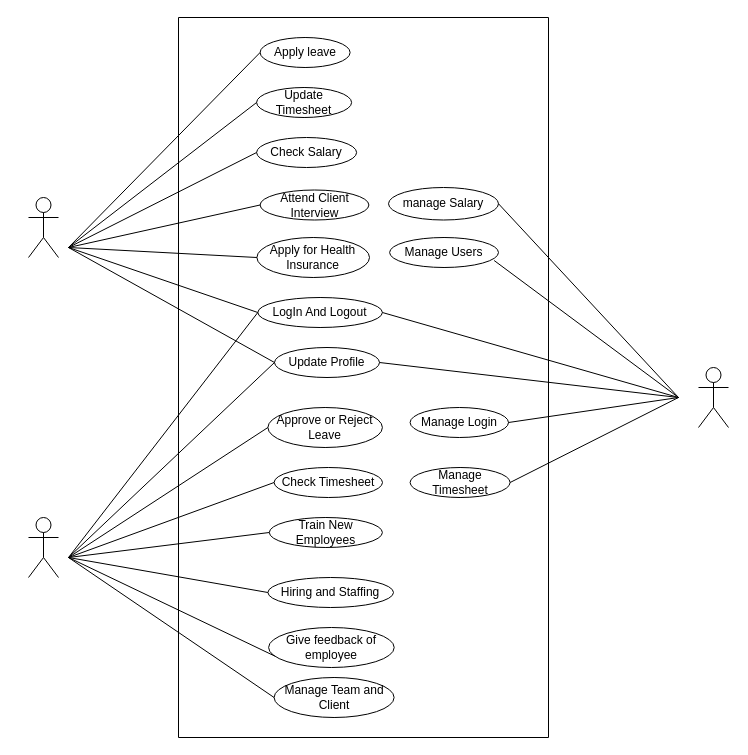
Image size: 748x755. Some labels were removed from this diagram. Here are the shapes that lost their labels. From the top down, the centre of each, then its label:
[43,227]: Employee
[713,397]: Admin
[43,547]: Manager
